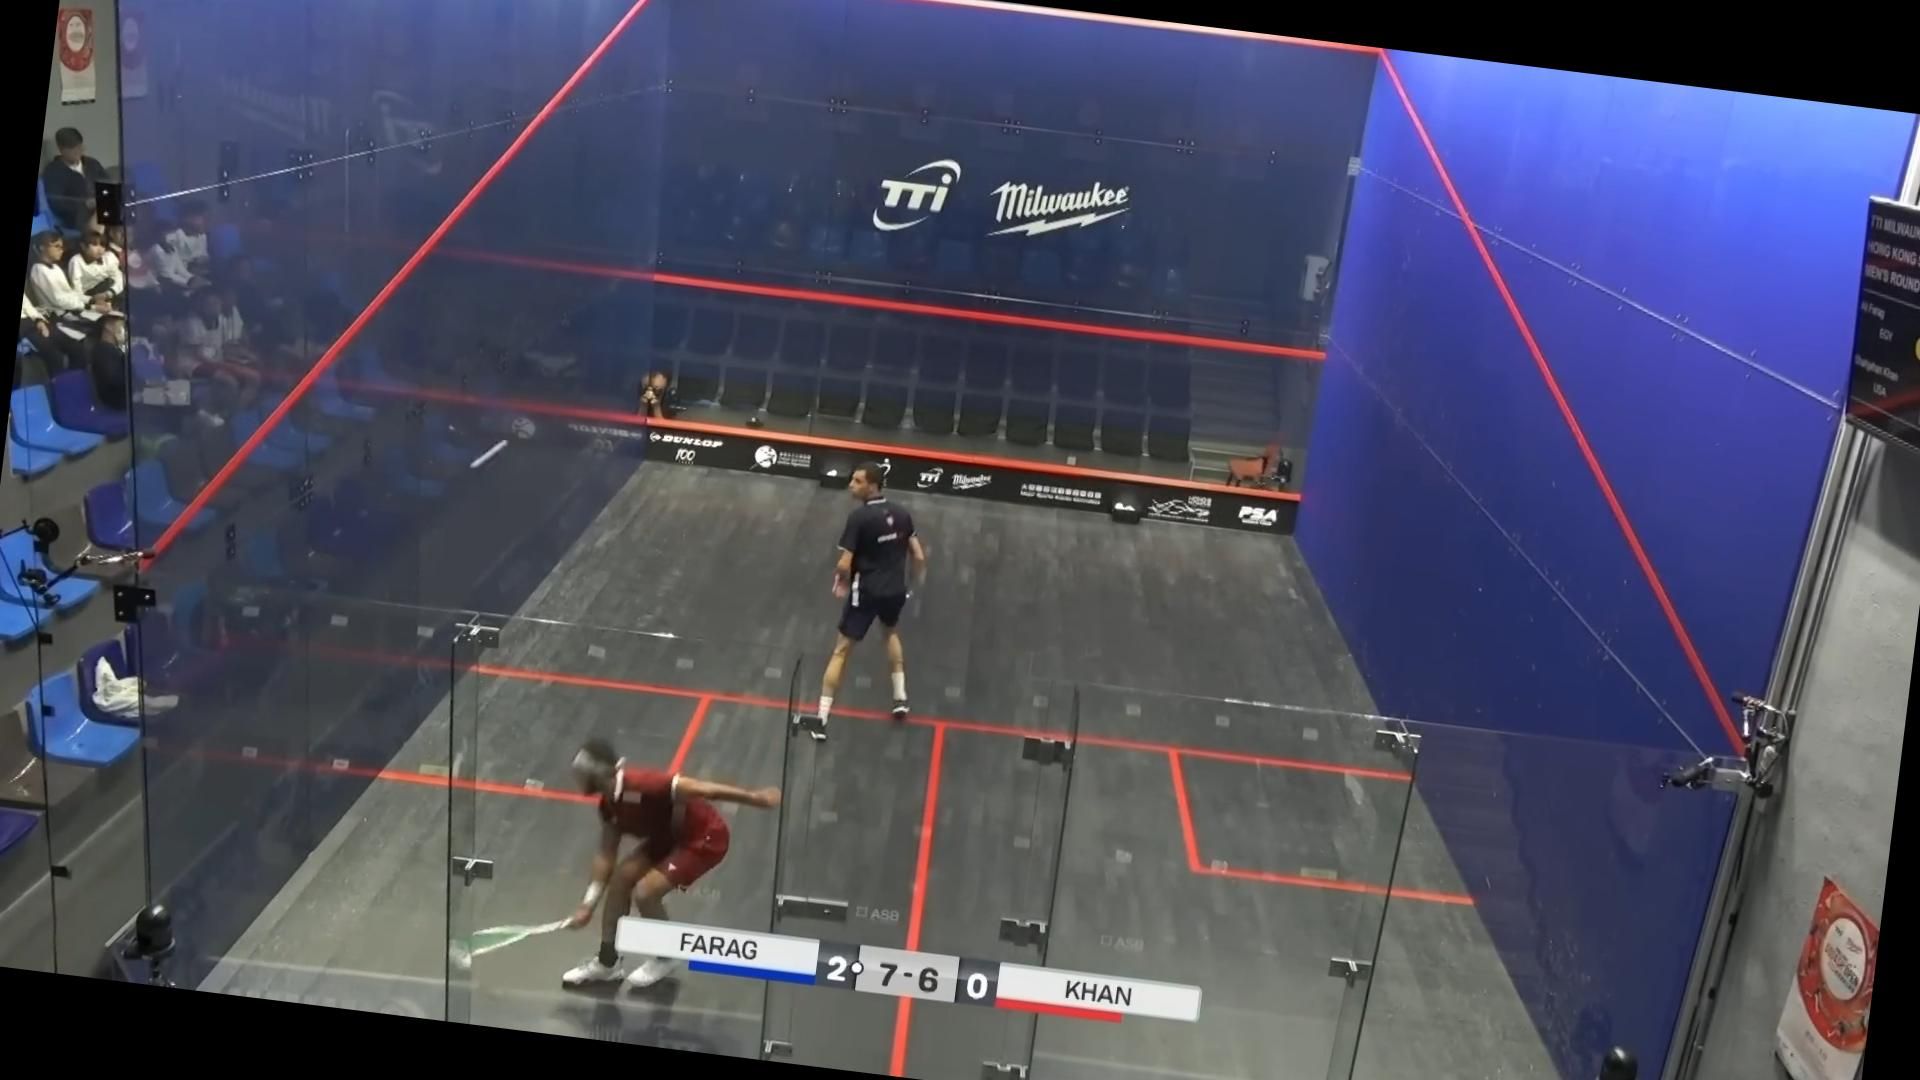Racket: (462, 906, 570, 972)
